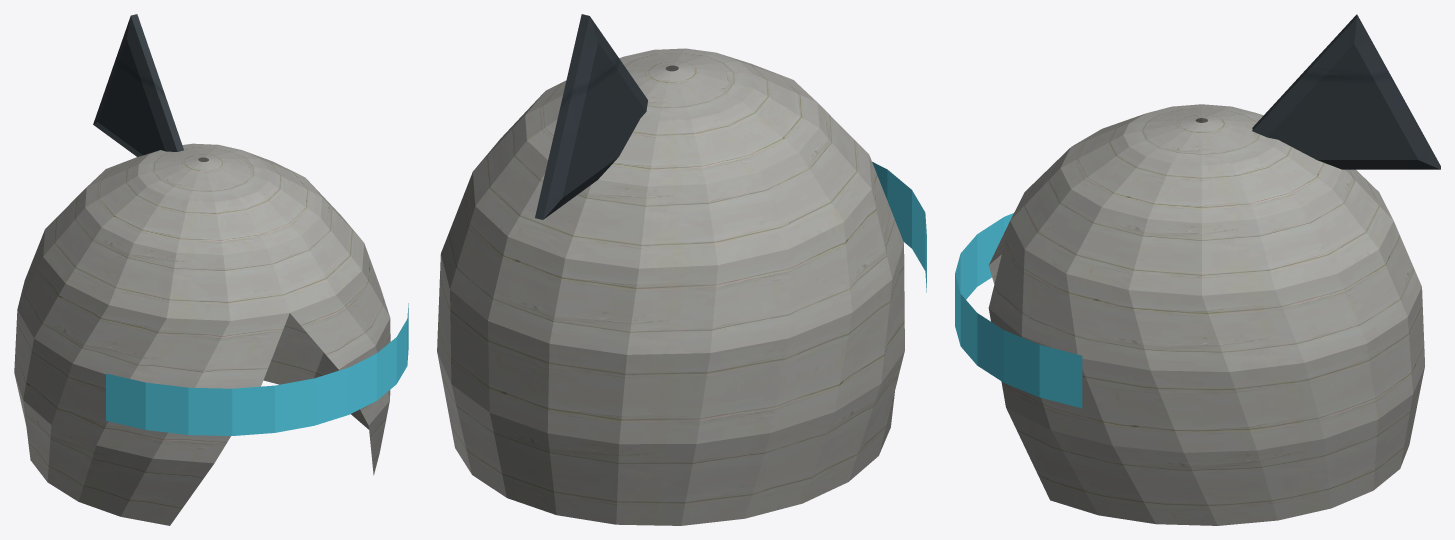
The model's file is eq_future_2_head.glb.
3 views of the same model, side by side, from view 1: azimuth 30°, elevation 25°; view 2: azimuth 150°, elevation 25°; view 3: azimuth 270°, elevation 25° (orthographic). The views are drawn at different scales.
Visible parts, largest first — view 1: eq_future_2_head; view 2: eq_future_2_head; view 3: eq_future_2_head.
Boxes of the visible parts, bbox=[...] form: eq_future_2_head: bbox=[14, 14, 408, 525]; eq_future_2_head: bbox=[437, 14, 926, 525]; eq_future_2_head: bbox=[955, 14, 1440, 525].
Bounding box in the file's own units: 0.2944 × 0.3384 × 0.3472.
Materials: 3 (2 with a texture image).
